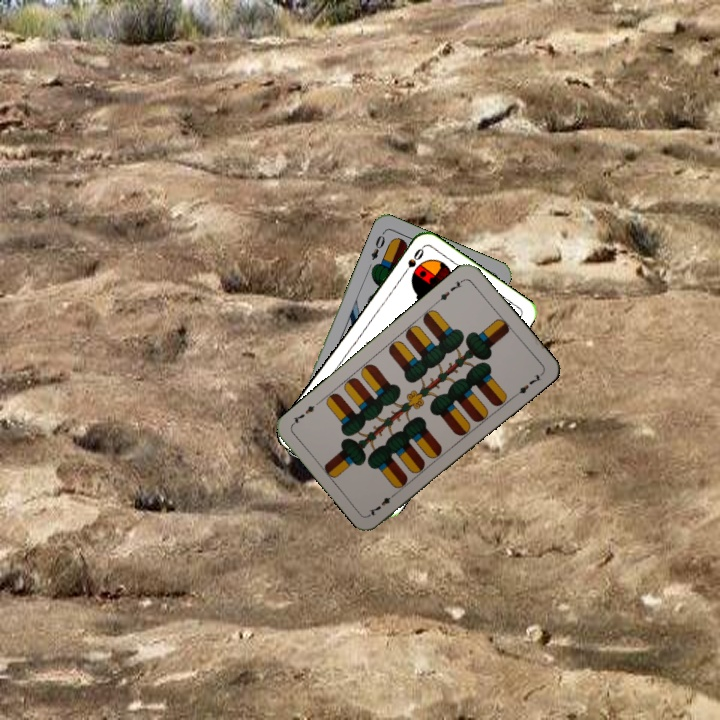E7: (364, 488, 399, 518), (432, 275, 466, 305)
EO: (367, 228, 388, 263)
SO: (398, 244, 427, 279)
